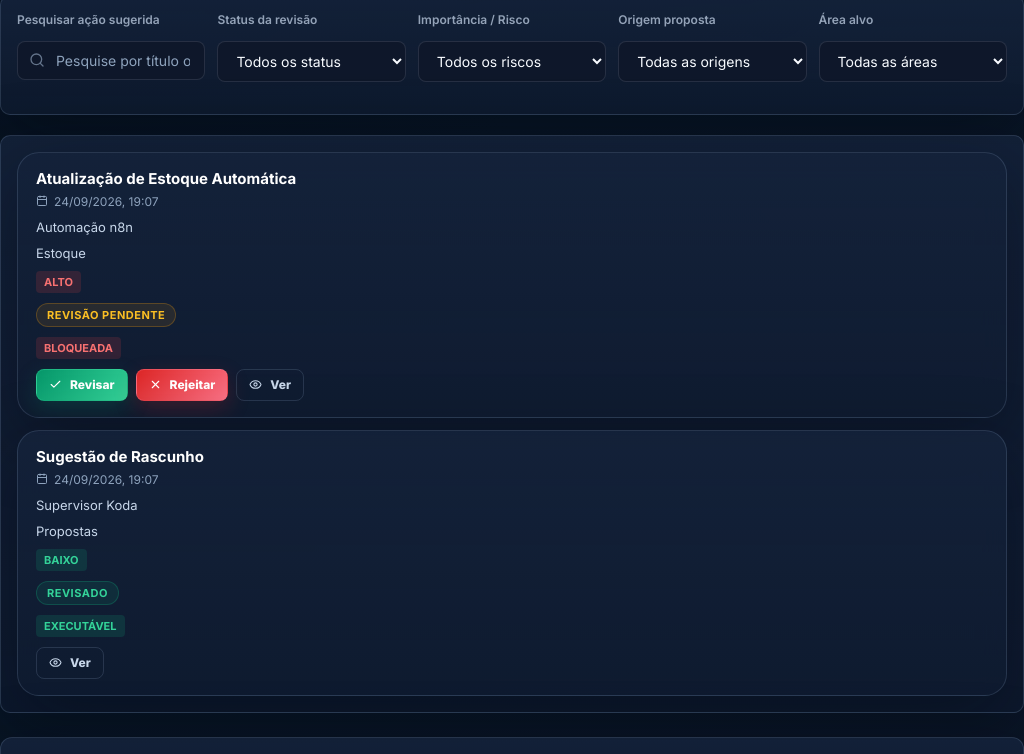
Test case: AutomationsPage › abre o drawer com os detalhes da ação e exibe payload oculto
(page scrolled)
Click the button "Ver" below "Bloqueada" at (270,385), box 236,369 -> 304,401
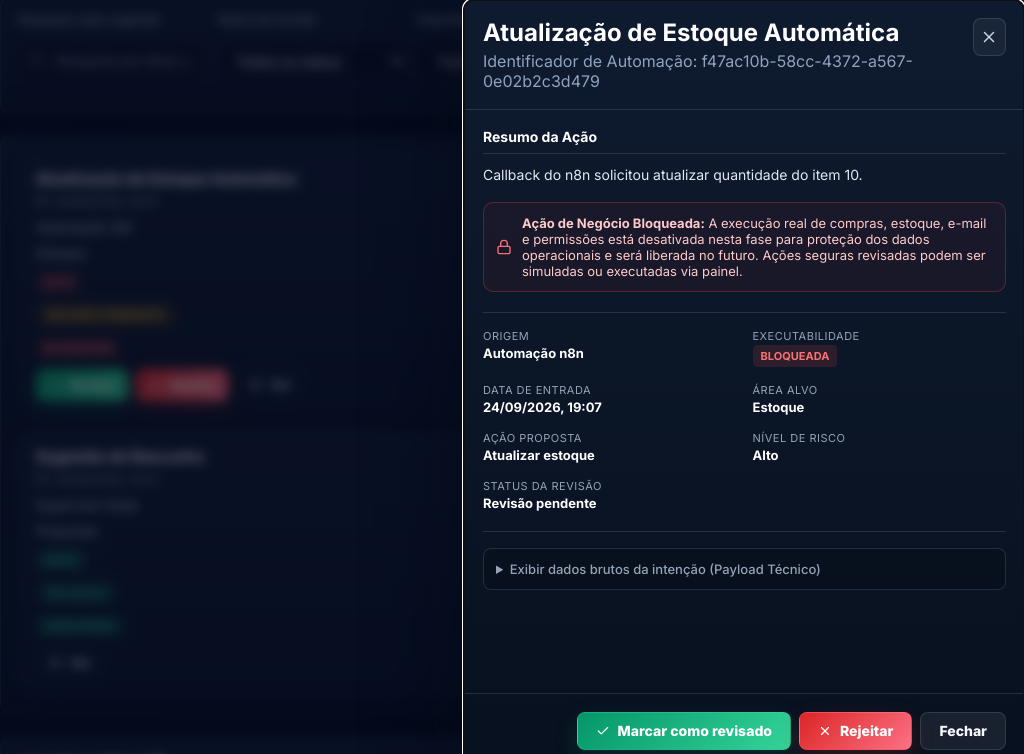
Check: the heading "Resumo da Ação" is shown, box 483,128 -> 1006,154
Check: the text "Callback do n8n solicitou atualizar quantidade do item 10." is shown, box 483,166 -> 863,183
Check: the text "Ação de Negócio Bloqueada:" is shown, box 522,215 -> 705,231
